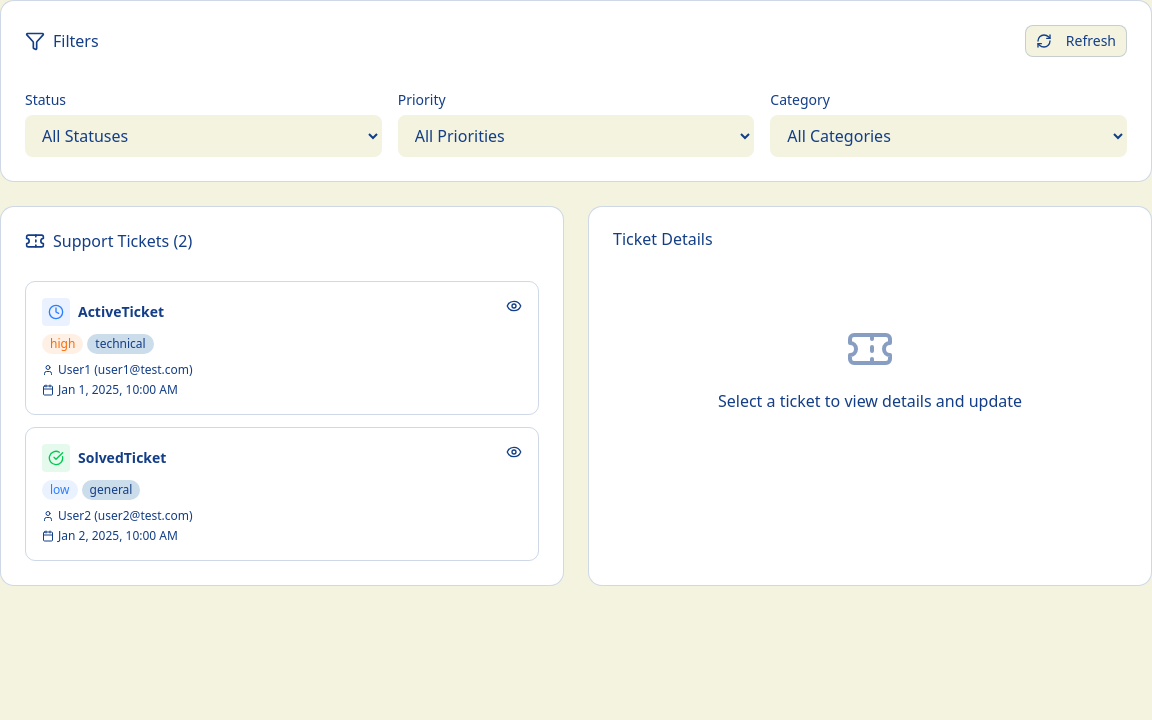
Scenario: AdminTicketsList › filters tickets by status
Expected: the heading "ActiveTicket" is shown, [78, 302, 164, 322]
Select "Active" in the dropdown below "Status". click: x=203, y=136
box: [25, 115, 382, 157]
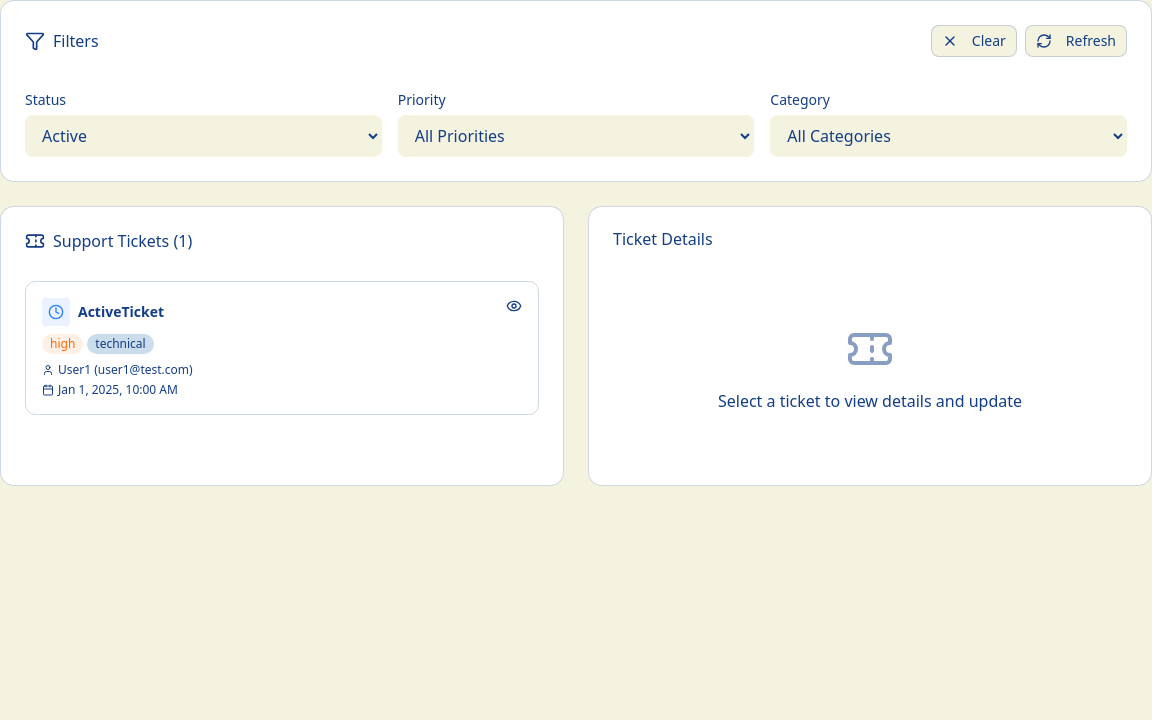
Expected: the heading "ActiveTicket" is shown, [78, 302, 164, 322]
Now the heading "SolvedTicket" is gone
